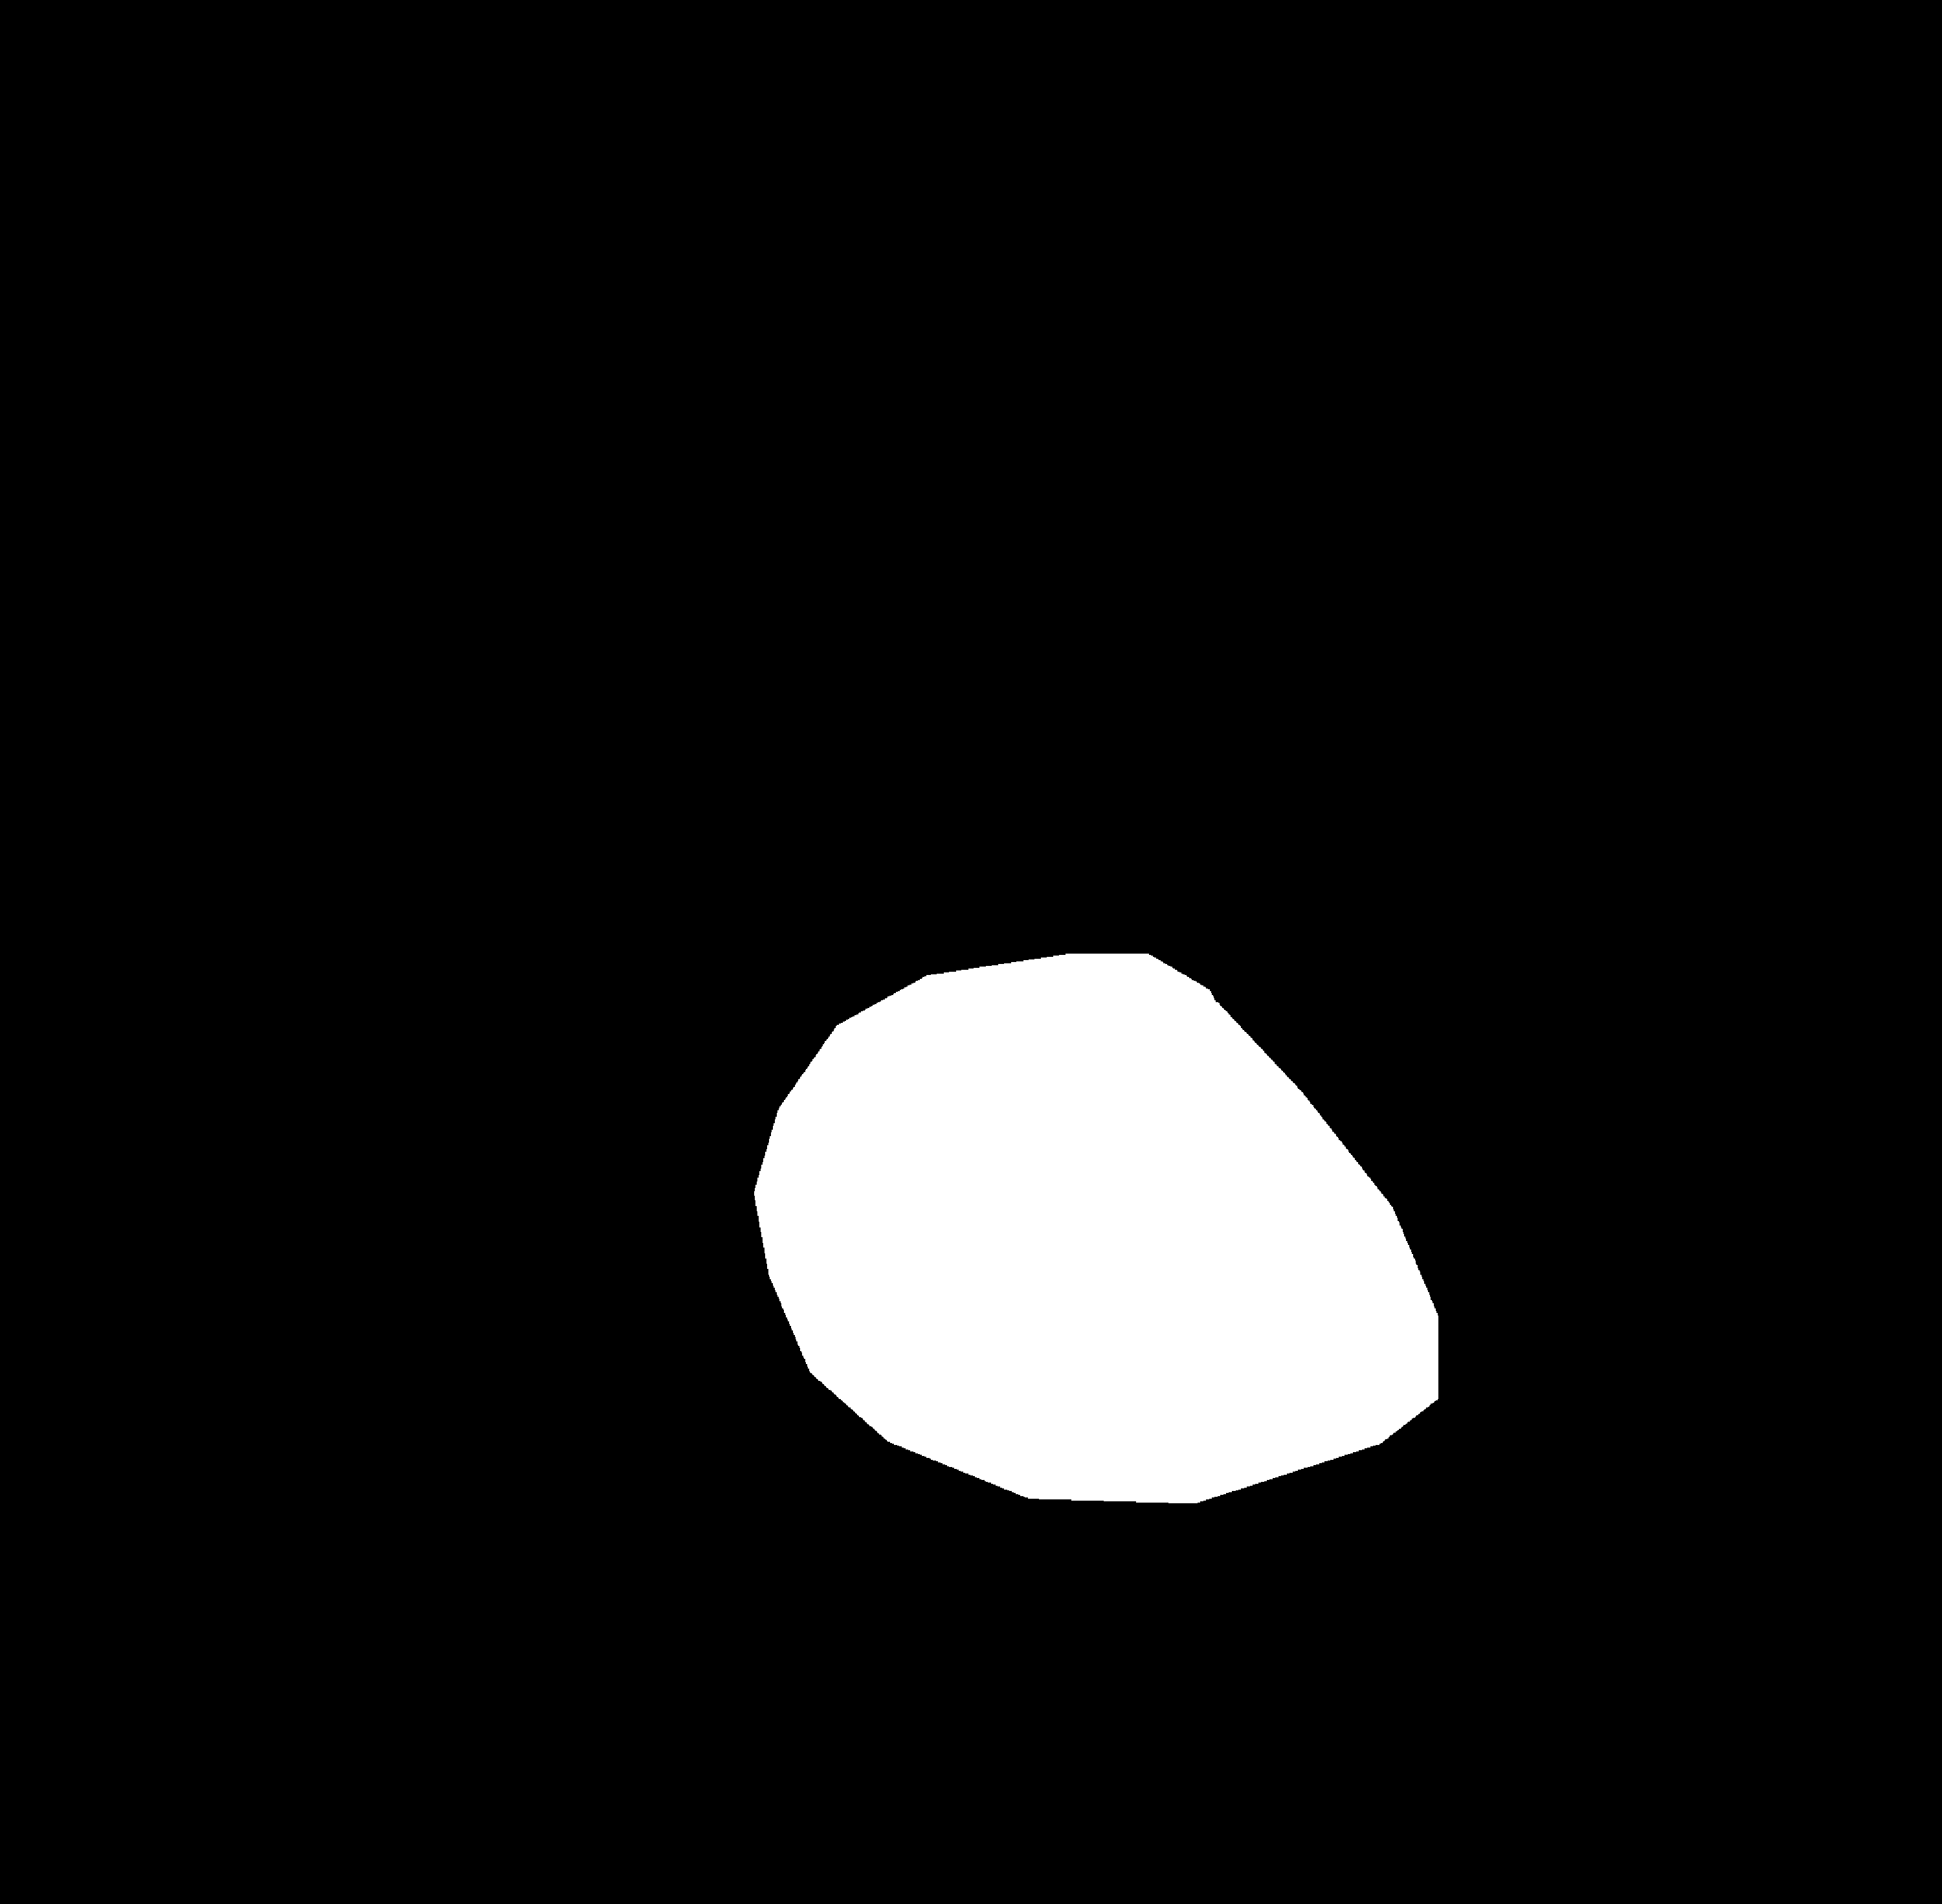heart: (755, 989, 1464, 1501)
left_lung: (211, 354, 934, 1653)
right_lung: (1081, 324, 1686, 1583)
